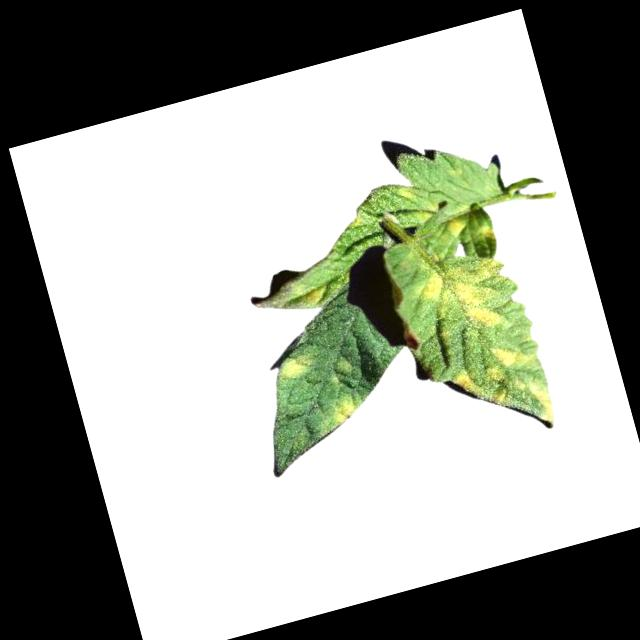Leaf_Mold: (413, 250, 517, 344), (486, 371, 559, 437), (480, 335, 542, 384), (287, 274, 330, 313), (325, 390, 362, 429), (274, 351, 315, 384), (451, 369, 482, 402), (440, 211, 470, 240), (479, 222, 498, 245)
